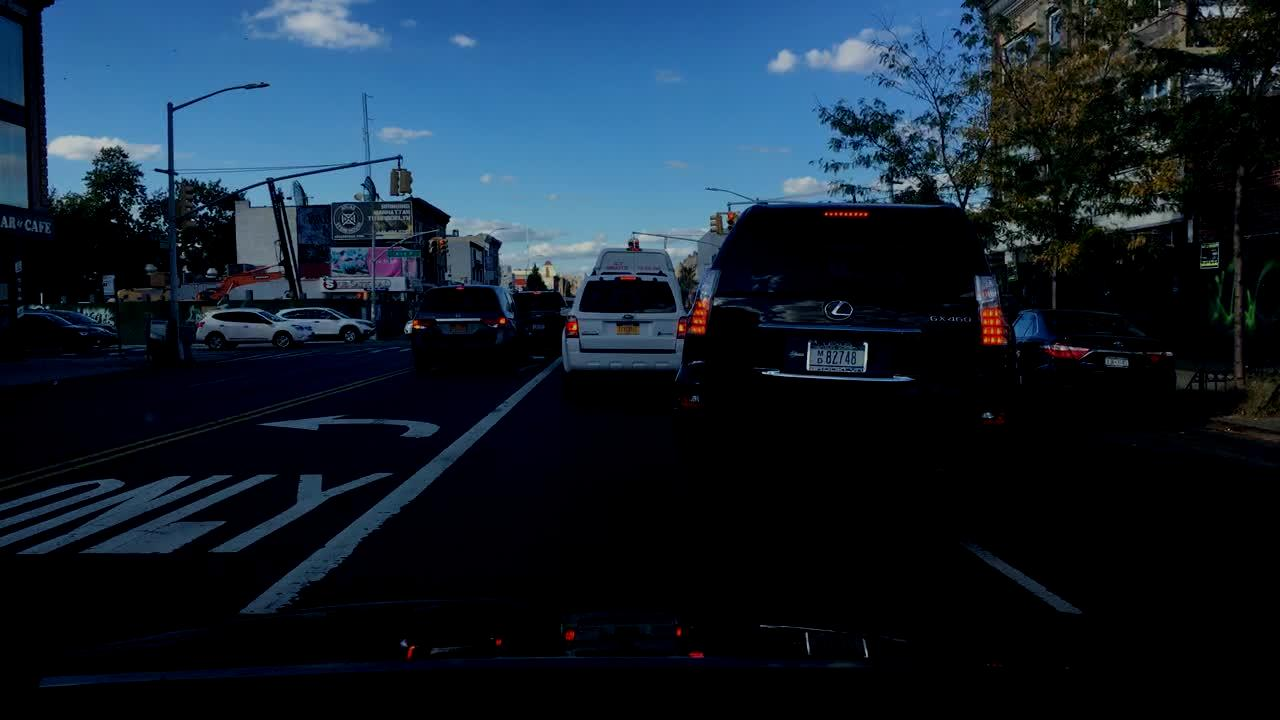ford: (619, 313, 635, 321)
lexus: (816, 294, 858, 326)
